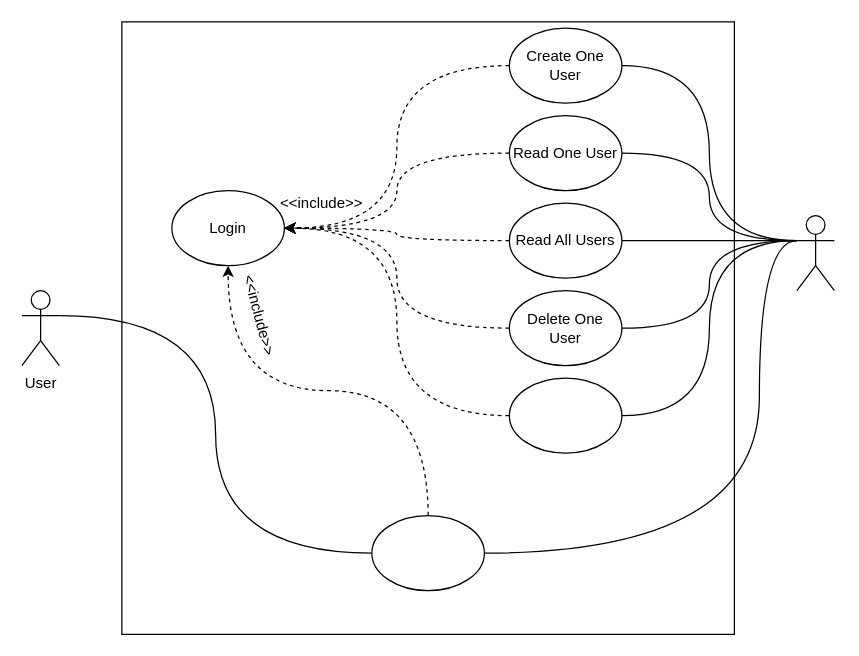
This 859x656 diagram has some shape labels left out. The shapes that lost their labels are listed below. From the top down, each one's centre as x and y in pixels, then its label:
point (815, 252): Admin
point (565, 415): Update One User
point (427, 552): Get My Profile
